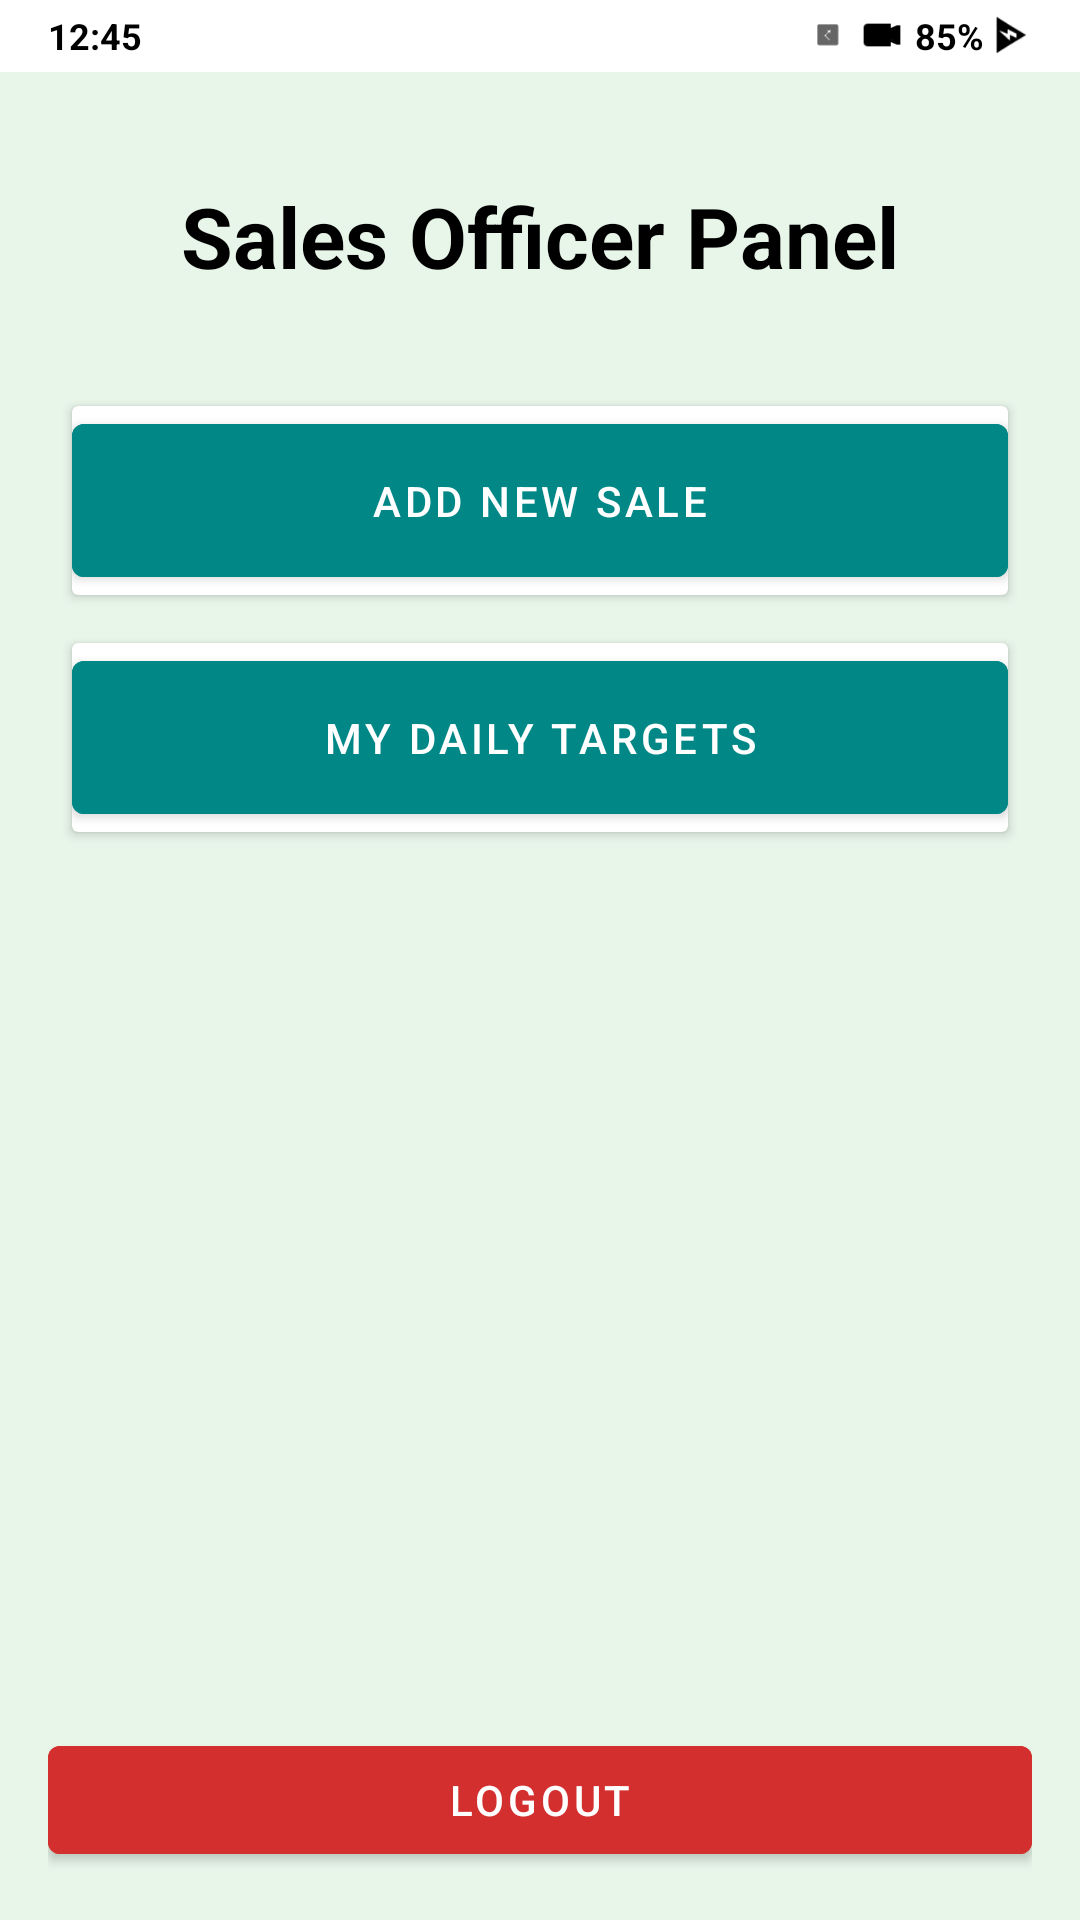

Icon bounding boxes for this 1080 × 1920 phone screenshot, format (x1, y1, x2, y2):
presence video online: (863, 23, 901, 47)
